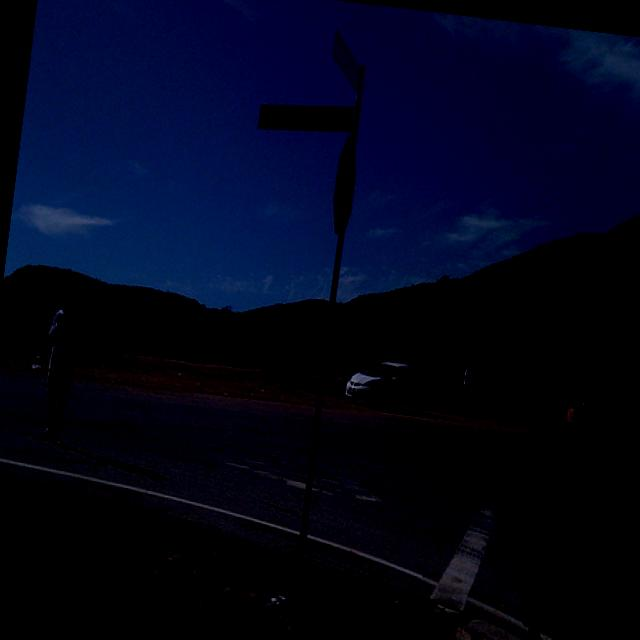Vehicle: (342, 356, 433, 416), (619, 407, 632, 438), (570, 413, 586, 434)
